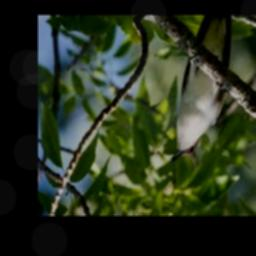Cuckoo: (169, 15, 231, 163)
